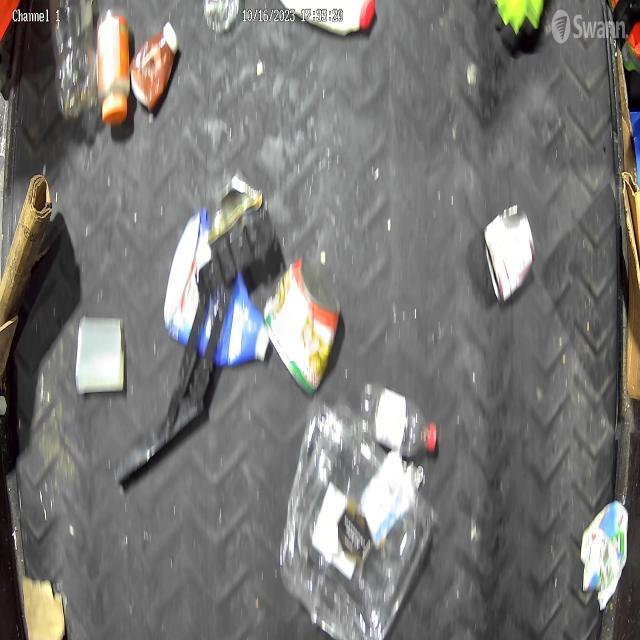can: (262, 250, 342, 390), (480, 203, 538, 307)
non_white_jug: (164, 209, 271, 376)
plastic_bottle: (360, 370, 442, 466), (52, 2, 101, 120)
